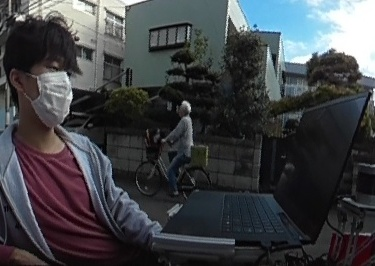person: (163, 101, 192, 193)
